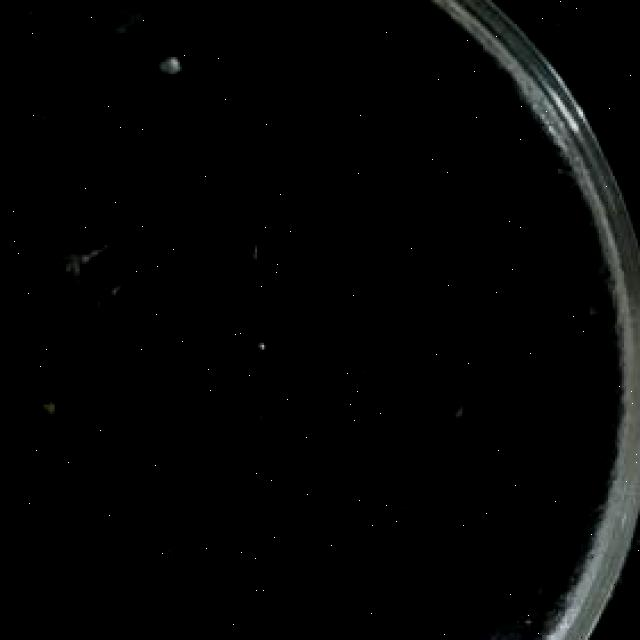Microplastic: (52, 236, 128, 312), (82, 0, 150, 38)
